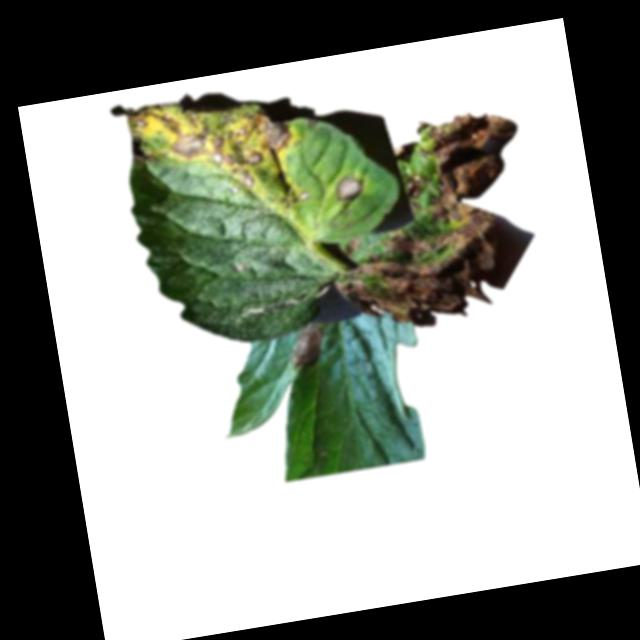Early_blight: (314, 105, 543, 333), (125, 83, 298, 202), (281, 324, 329, 372), (330, 171, 365, 205)
